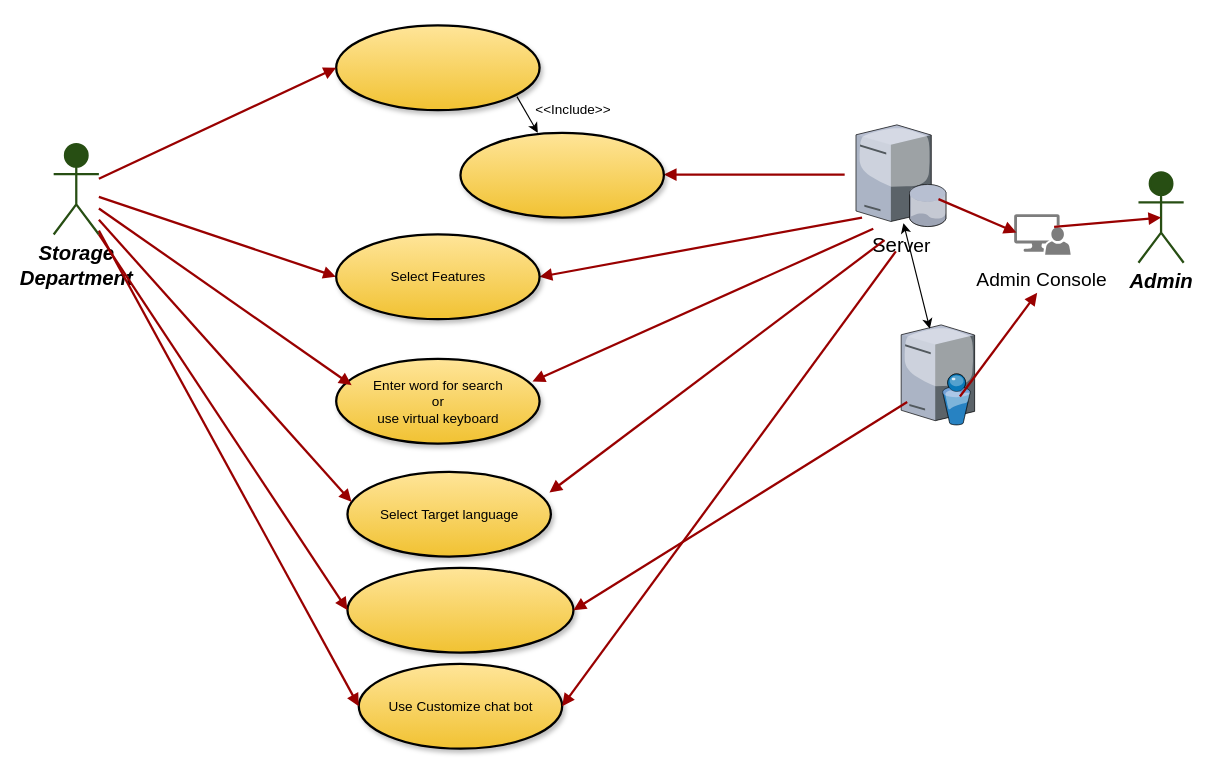
The diagram is 1211 pixels wide and 776 high, and some of its shapes have lost their labels. Here are the shapes that lost their labels. From the top down, the centre of each, then its label:
At (438,69): "User Login".
At (562,176): "Verification".
At (937,374): "Google Server".
At (461,611): "Select optional features e.g two meaninges of same word".
